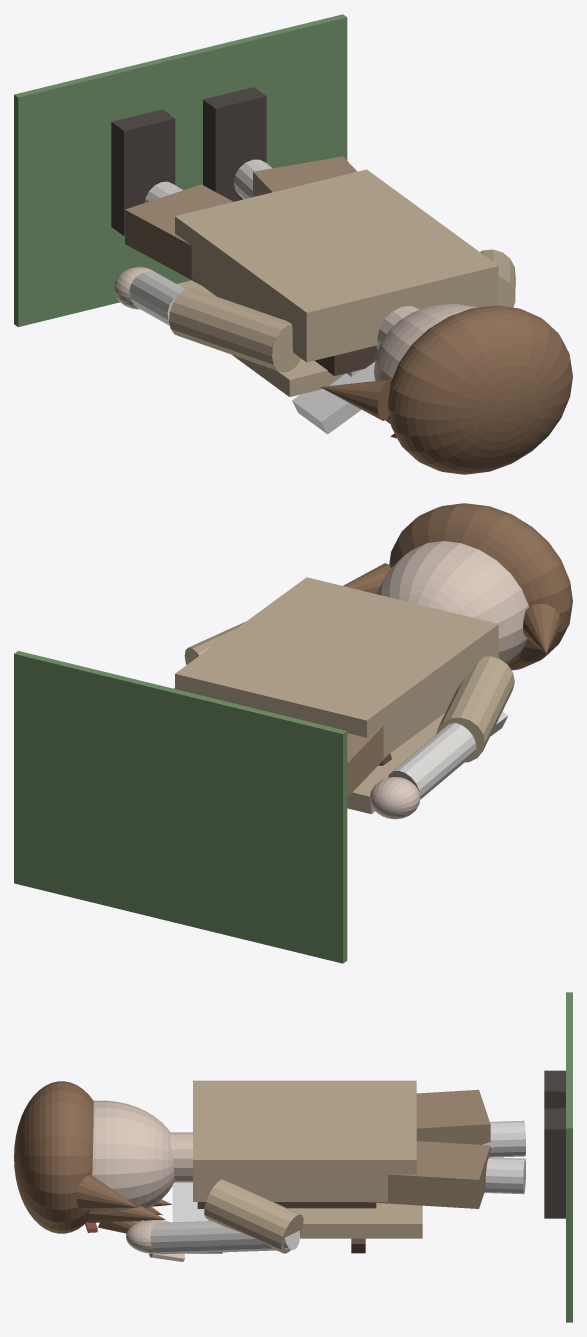
The model's file is player.glb.
3 views of the same model, one above another, from view 1: azimuth 30°, elevation 25°; view 2: azimuth 150°, elevation 25°; view 3: azimuth 270°, elevation 25° (orthographic). The views are drawn at different scales.
Parts seen in each view (by area): view 1: simple_display_base, long_tan_coat_back, rounded_brown_hair_cap, left_upper_coat_sleeve, left_shoe, right_shoe, coat_tail_left, head, left_large_collar, coat_tail_right, left_coat_panel, left_lower_bandaged_arm (+5 smaller); view 2: simple_display_base, long_tan_coat_back, rounded_brown_hair_cap, head, left_upper_coat_sleeve, left_lower_bandaged_arm, left_coat_panel, coat_tail_left, left_hand, messy_hair_lock_4, messy_hair_lock_5; view 3: long_tan_coat_back, rounded_brown_hair_cap, head, coat_tail_right, right_coat_panel, right_upper_coat_sleeve, coat_tail_left, right_lower_bandaged_arm, right_shoe, simple_display_base, right_leg_bandaged, left_leg_bandaged (+7 smaller).
Boxes of the visible parts, left/top/right/bottom form: simple_display_base: left=14, top=14, right=347, bottom=326; long_tan_coat_back: left=175, top=169, right=498, bottom=362; rounded_brown_hair_cap: left=387, top=305, right=572, bottom=474; left_upper_coat_sleeve: left=169, top=288, right=301, bottom=372; left_shoe: left=111, top=109, right=175, bottom=236; right_shoe: left=203, top=87, right=266, bottom=201; coat_tail_left: left=125, top=184, right=233, bottom=284; head: left=374, top=303, right=477, bottom=380; left_large_collar: left=292, top=361, right=374, bottom=434; coat_tail_right: left=253, top=156, right=356, bottom=196; left_coat_panel: left=177, top=280, right=345, bottom=396; left_lower_bandaged_arm: left=129, top=271, right=185, bottom=325; simple_display_base: left=14, top=651, right=347, bottom=963; long_tan_coat_back: left=175, top=577, right=498, bottom=757; rounded_brown_hair_cap: left=389, top=503, right=572, bottom=670; head: left=377, top=541, right=528, bottom=662; left_upper_coat_sleeve: left=436, top=656, right=514, bottom=762; left_lower_bandaged_arm: left=388, top=723, right=476, bottom=799; left_coat_panel: left=347, top=713, right=497, bottom=814; coat_tail_left: left=347, top=726, right=388, bottom=797; left_hand: left=370, top=777, right=420, bottom=819; messy_hair_lock_4: left=523, top=603, right=561, bottom=653; messy_hair_lock_5: left=343, top=563, right=390, bottom=594; long_tan_coat_back: left=193, top=1080, right=416, bottom=1201; rounded_brown_hair_cap: left=14, top=1081, right=93, bottom=1233; head: left=90, top=1100, right=174, bottom=1212; coat_tail_right: left=363, top=1141, right=490, bottom=1208; right_coat_panel: left=208, top=1203, right=422, bottom=1238; right_upper_coat_sleeve: left=204, top=1179, right=303, bottom=1253; coat_tail_left: left=416, top=1089, right=490, bottom=1144; right_lower_bandaged_arm: left=150, top=1221, right=299, bottom=1254; right_shoe: left=544, top=1108, right=565, bottom=1218; simple_display_base: left=566, top=992, right=572, bottom=1322; right_leg_bandaged: left=484, top=1157, right=525, bottom=1194; left_leg_bandaged: left=482, top=1120, right=525, bottom=1157.
Bounding box in the file's own units: 1.8 × 1.2 × 3.13.
